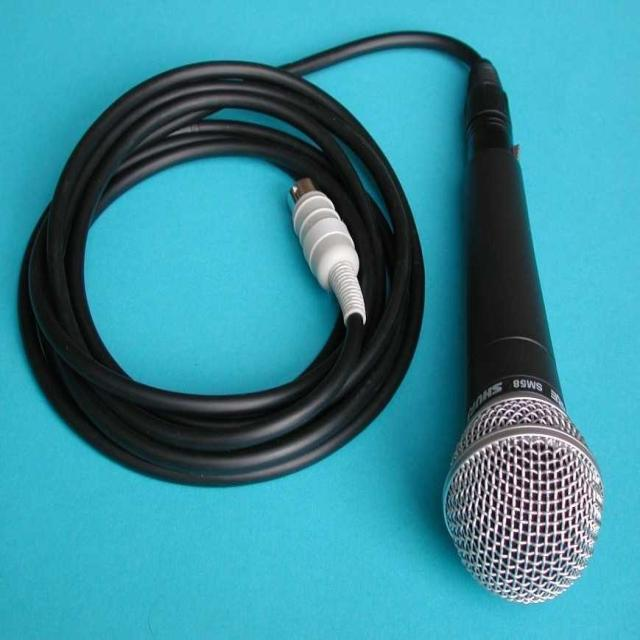microphone: (446, 66, 607, 603)
